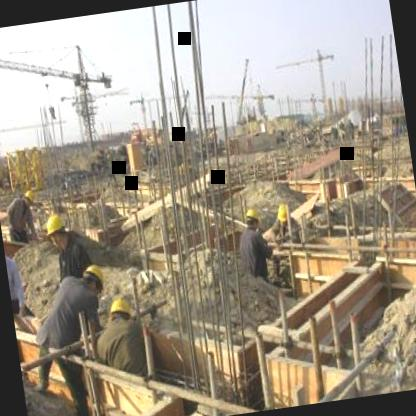helmet: (41, 208, 74, 252), (75, 258, 111, 297), (104, 294, 136, 334), (240, 201, 262, 233), (272, 198, 294, 227), (21, 185, 39, 209)
